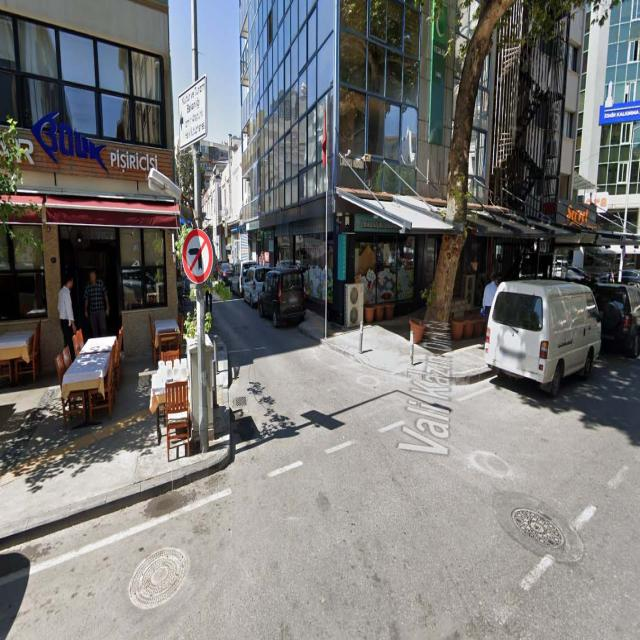soladonulmez: (182, 230, 212, 283)
